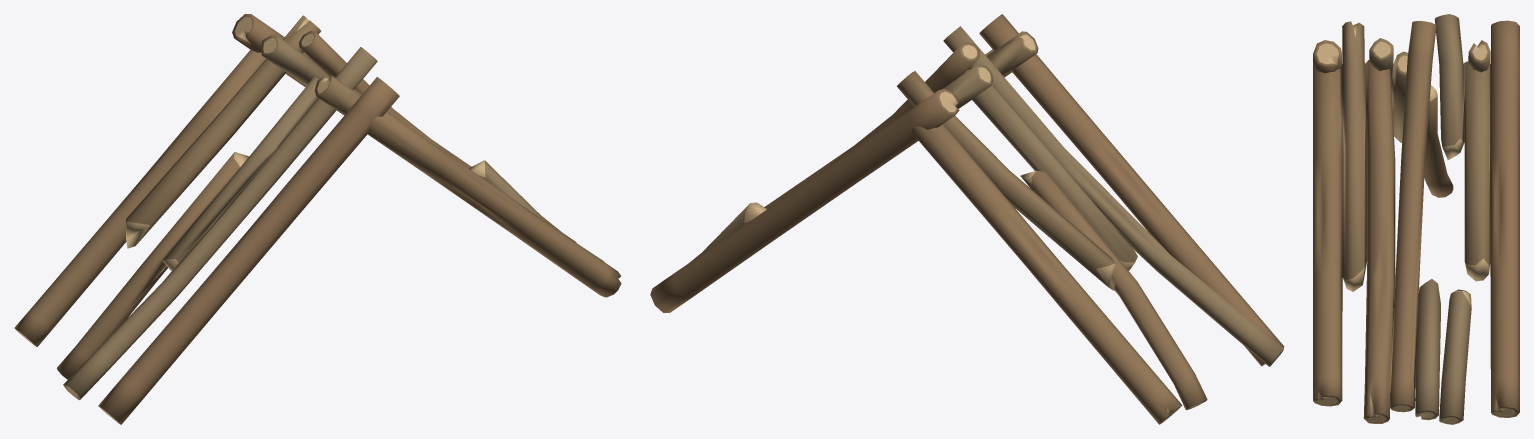
Rendered from rpgpp_av_roof_01_6x3x3_a.gltf.
The picture shows the model from 3 angles, left to right: view 1: azimuth 30°, elevation 25°; view 2: azimuth 150°, elevation 25°; view 3: azimuth 270°, elevation 25°; orthographic projection. The views are drawn at different scales.
Parts seen in each view (by area): view 1: rpgpp_av_roof_01_6x3x3_a; view 2: rpgpp_av_roof_01_6x3x3_a; view 3: rpgpp_av_roof_01_6x3x3_a.
Part boxes in pixels (box(x1,y1,x2,y2)): rpgpp_av_roof_01_6x3x3_a: box(14, 14, 621, 424); rpgpp_av_roof_01_6x3x3_a: box(650, 14, 1284, 424); rpgpp_av_roof_01_6x3x3_a: box(1313, 14, 1519, 424).
Size of the model in its own units: 0.0882 by 0.0458 by 0.03.
1 material, 1 textured.
